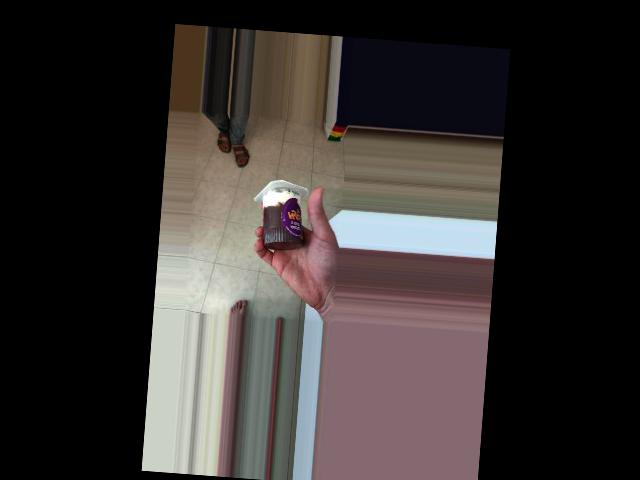milky: (252, 175, 310, 257)
